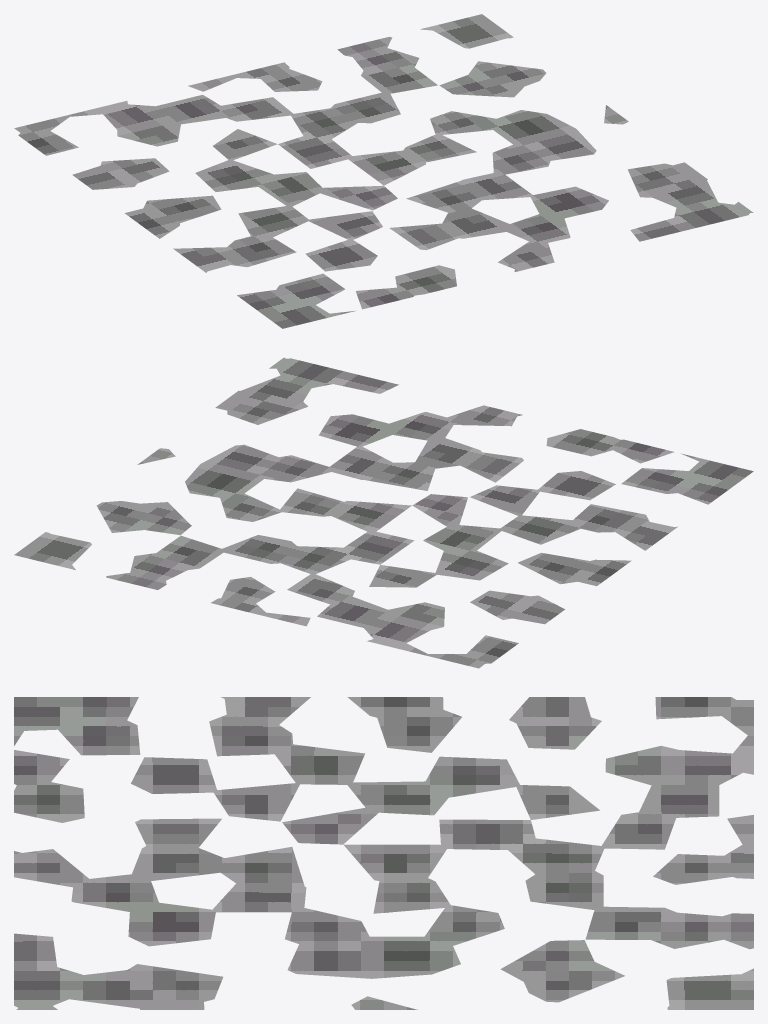
3 views of the same model, one above another, from view 1: azimuth 30°, elevation 25°; view 2: azimuth 150°, elevation 25°; view 3: azimuth 270°, elevation 25° (orthographic). The views are drawn at different scales.
Visible parts, largest first — view 1: Segment_002; view 2: Segment_002; view 3: Segment_002.
Boxes of the visible parts, <box> form: Segment_002: <box>14,14,753,328</box>; Segment_002: <box>14,357,753,668</box>; Segment_002: <box>14,697,753,1009</box>.
Bounding box in the file's own units: 10000 × 0 × 10000.
Materials: 1 (1 with a texture image).
